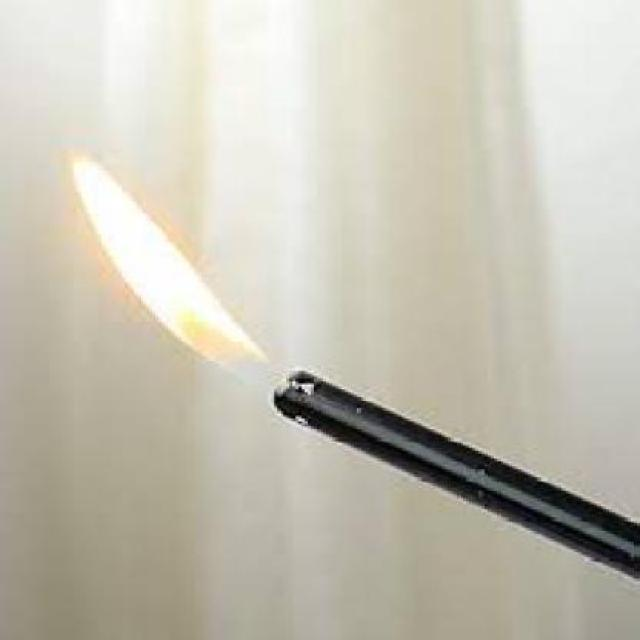Fire: (46, 148, 269, 384)
